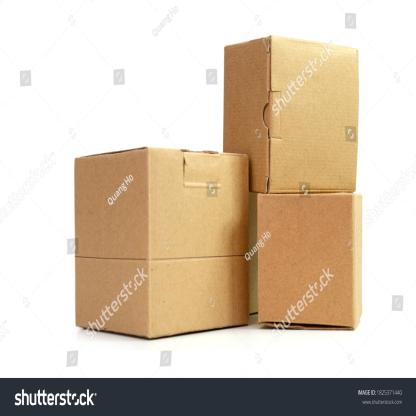box: (74, 146, 152, 340), (268, 34, 358, 194), (256, 191, 354, 330)
